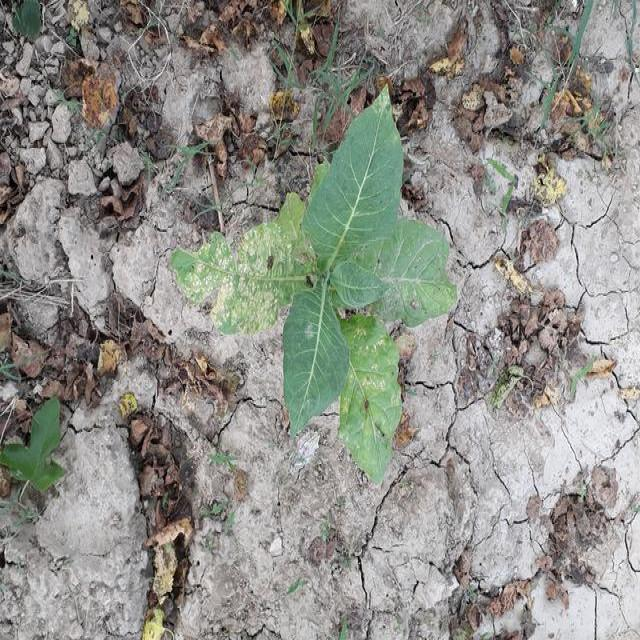crop: (166, 144, 483, 480)
